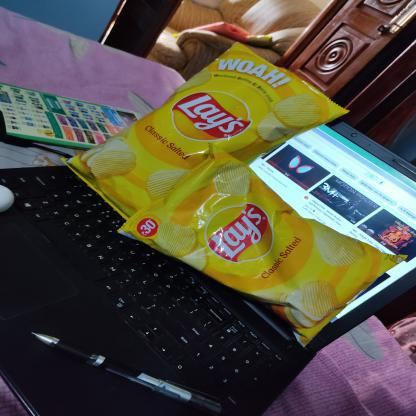classicsalted: (115, 143, 408, 350), (59, 39, 352, 229)
